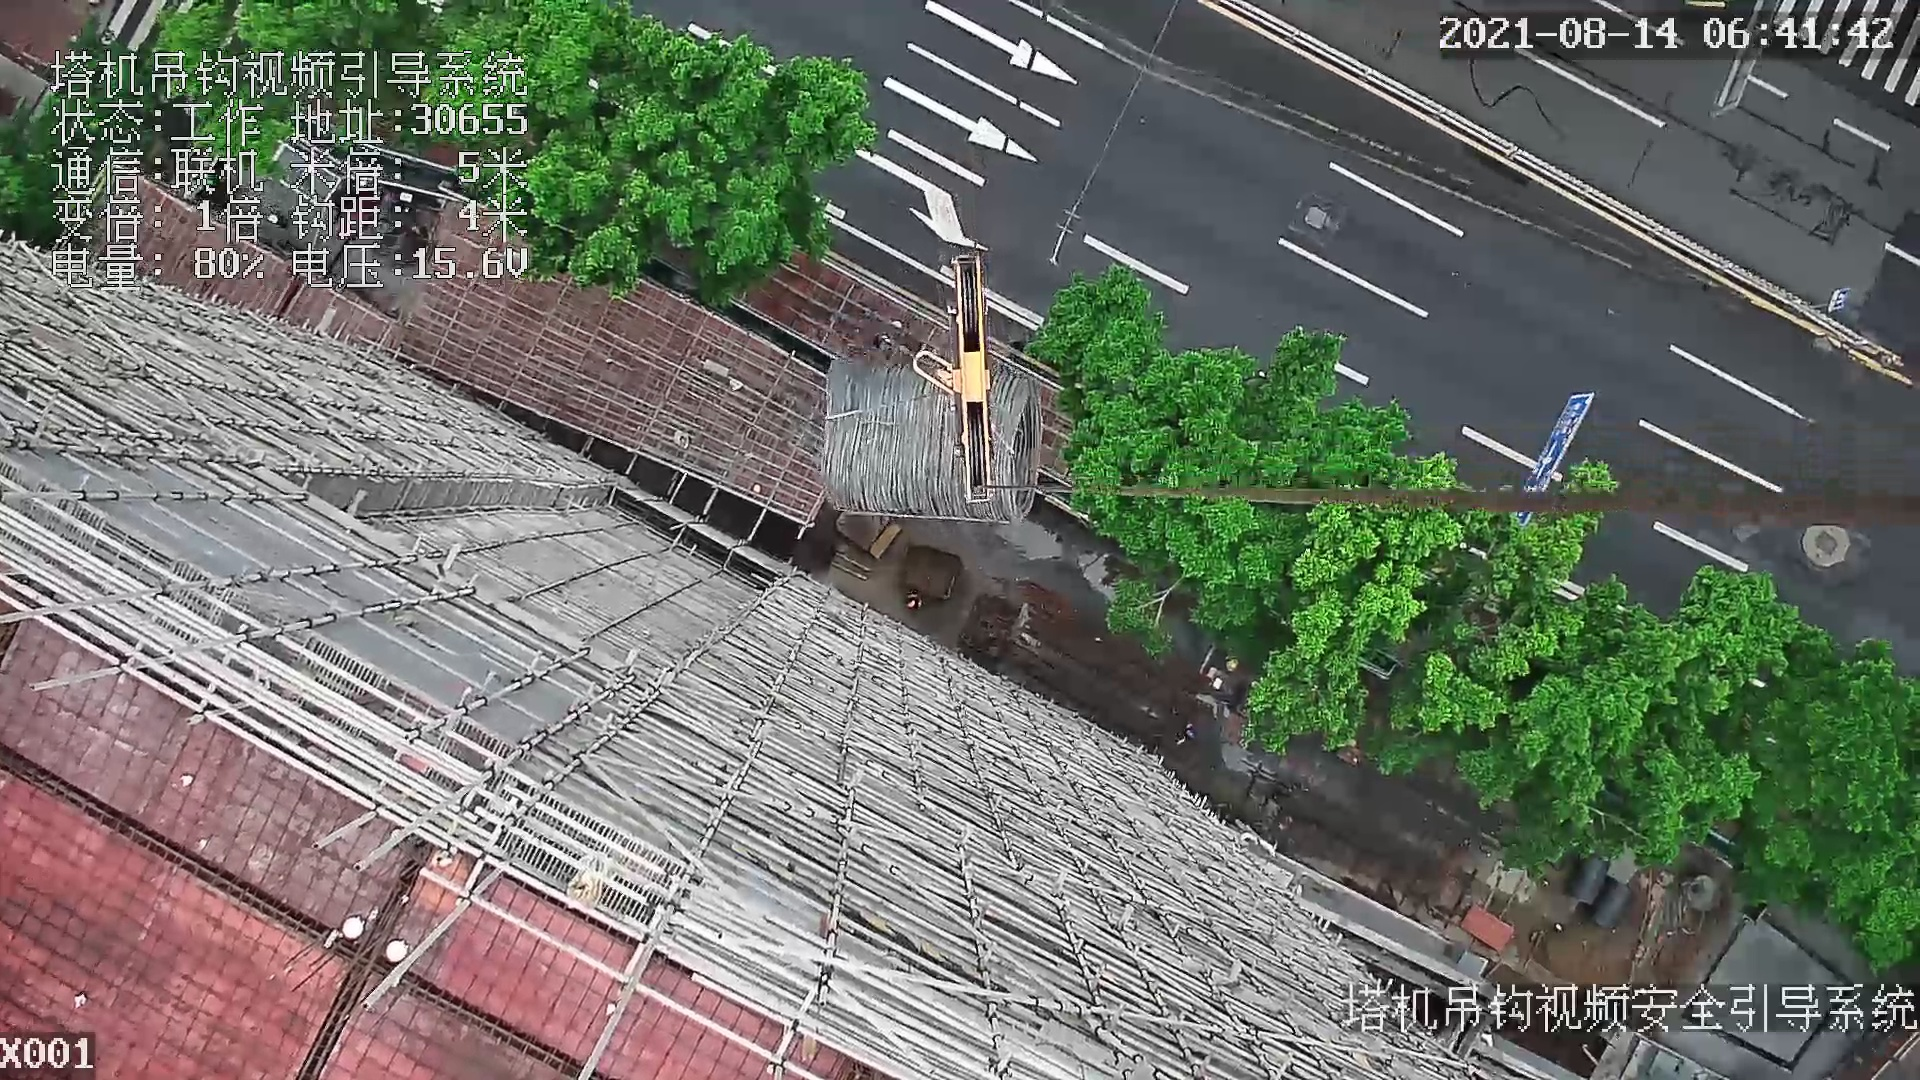hook: (918, 253, 999, 501)
person: (906, 594, 922, 609)
